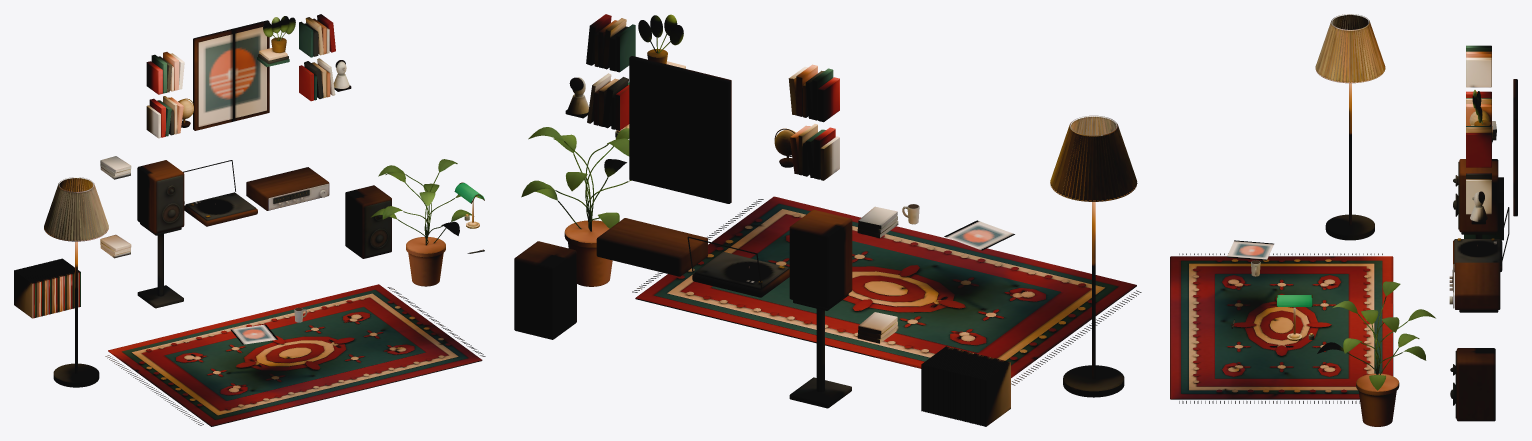
3 views of the same model, side by side, from view 1: azimuth 30°, elevation 25°; view 2: azimuth 150°, elevation 25°; view 3: azimuth 270°, elevation 25° (orthographic). The views are drawn at different scales.
Parts seen in each view (by area): view 1: objects; view 2: objects; view 3: objects.
Part boxes in pixels (x1,y1,x2,y2): objects: (14,14,485,426); objects: (514,14,1141,426); objects: (1170,14,1517,426).
Size of the model in its own units: 4.21 by 2.35 by 2.68.
Materials: 1 (1 with a texture image).
